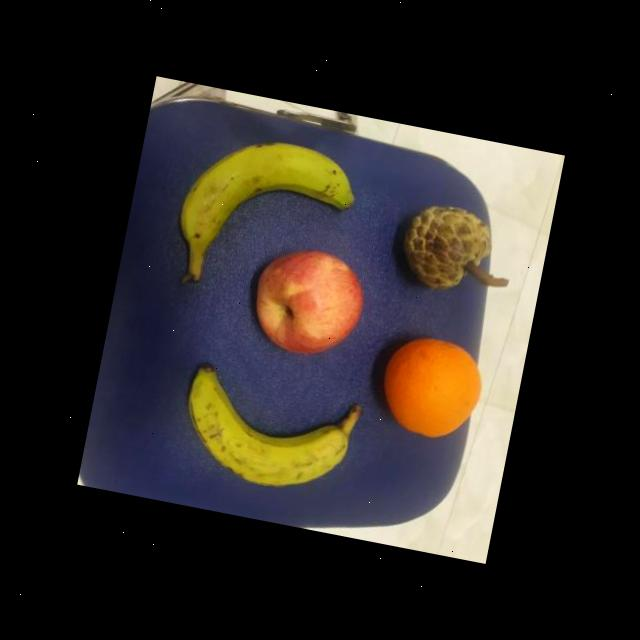Sakya fruit: (393, 197, 497, 299)
apple: (240, 238, 374, 370)
banana: (165, 126, 362, 315), (166, 363, 366, 505)
orange: (364, 327, 489, 444)
